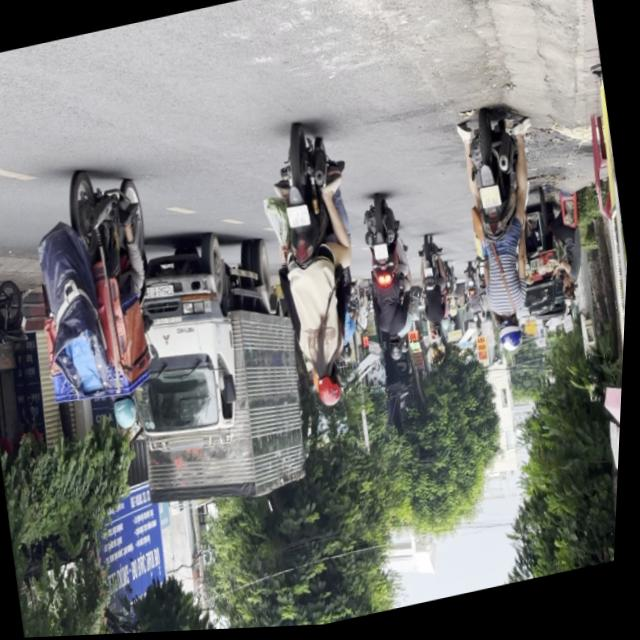helmet: (313, 364, 346, 413), (495, 316, 527, 359), (112, 394, 142, 434)
licenseplate: (16, 156, 185, 448), (244, 118, 387, 424), (444, 105, 565, 367)
nohelmet: (286, 205, 312, 231), (479, 189, 502, 212)
